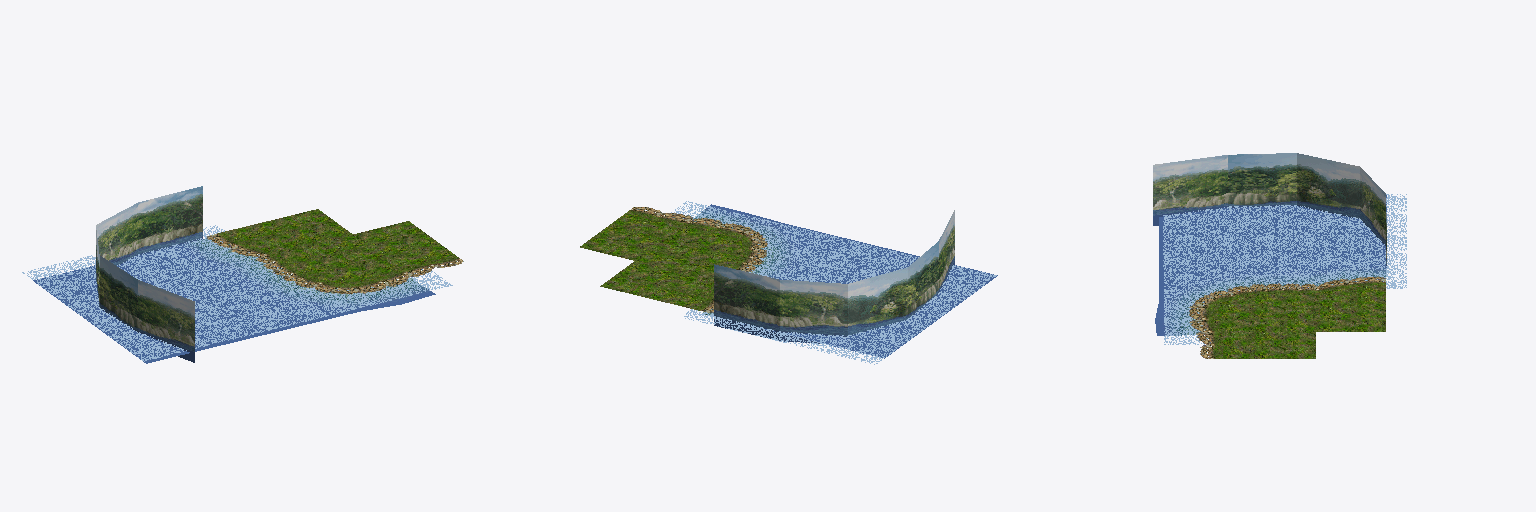
3 renders of one model, left to right at view 1: azimuth 30°, elevation 25°; view 2: azimuth 150°, elevation 25°; view 3: azimuth 270°, elevation 25°, orthographic.
Parts seen in each view (by area): view 1: b04; view 2: b04; view 3: b04.
Boxes of the visible parts, <box> form: b04: <box>22,186,463,363</box>; b04: <box>580,201,997,364</box>; b04: <box>1153,153,1406,358</box>.
Bounding box in the file's own units: 441 × 75.95 × 283.
Materials: 2 (2 with a texture image).